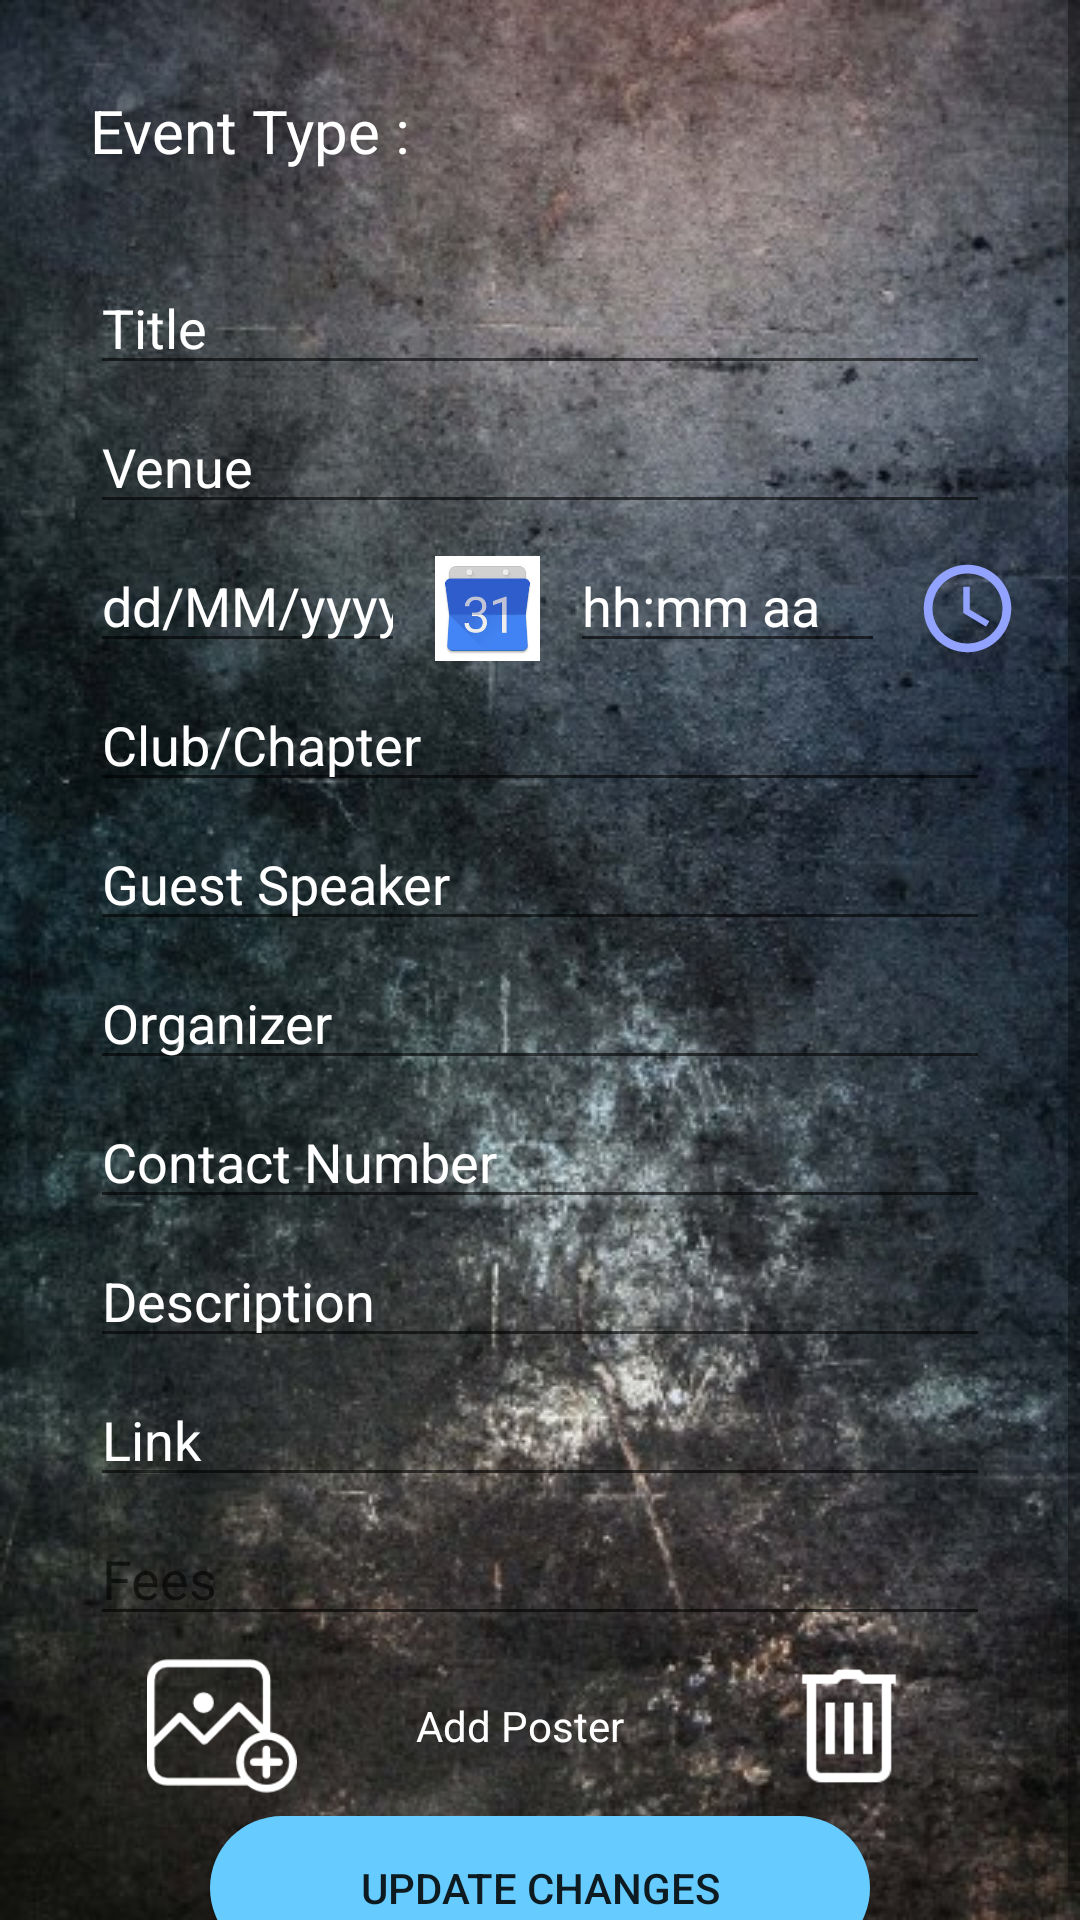

Named icons in this screenshot (1080 x 1920) and their centers, (x,y):
Time: (967,608)
